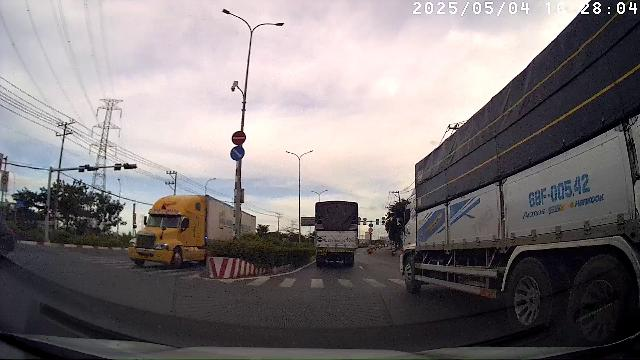102-cam-di-nguoc-chieu: (231, 130, 246, 145)
302a-huong-phai-di-vong-chuong-ngai-vat-1: (230, 145, 245, 161)
